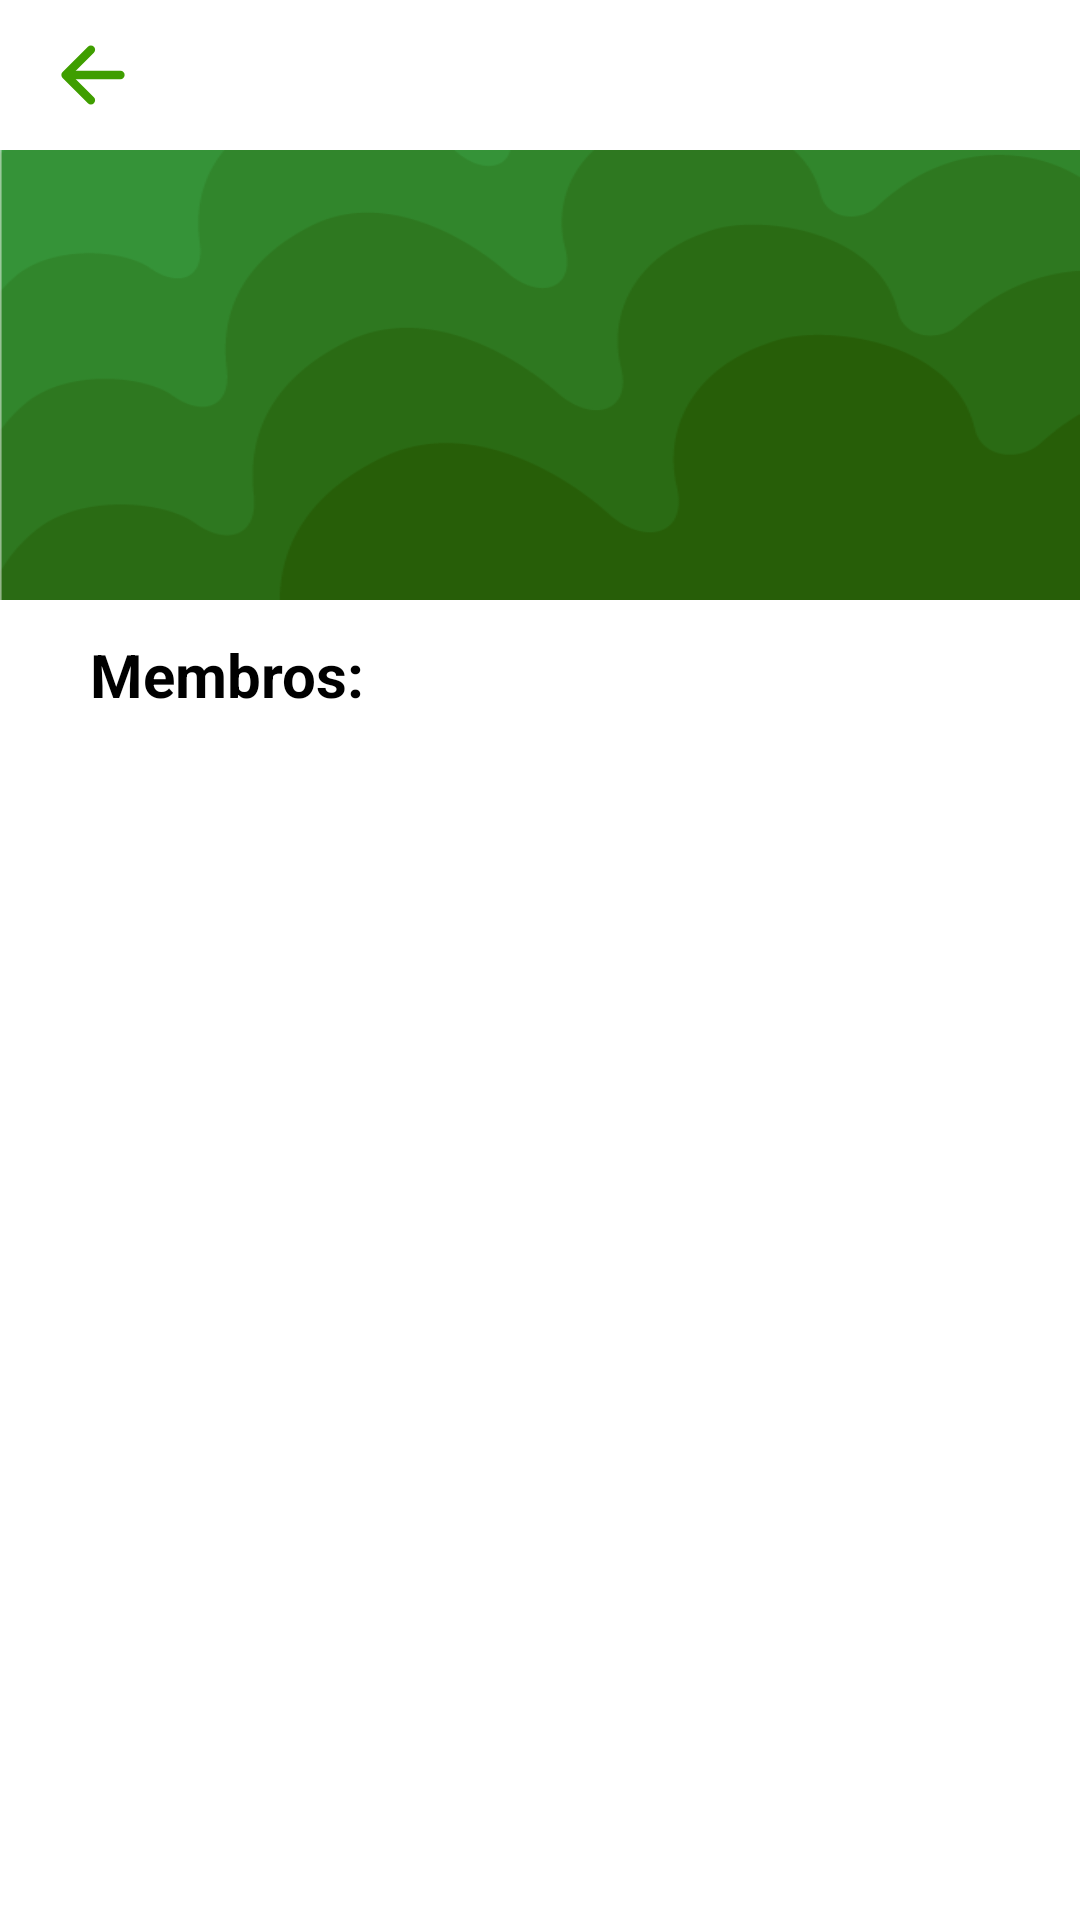

Icon click points for this 1080 x 1920 phone screenshot, format (x,y):
arrow back: (93,75)
